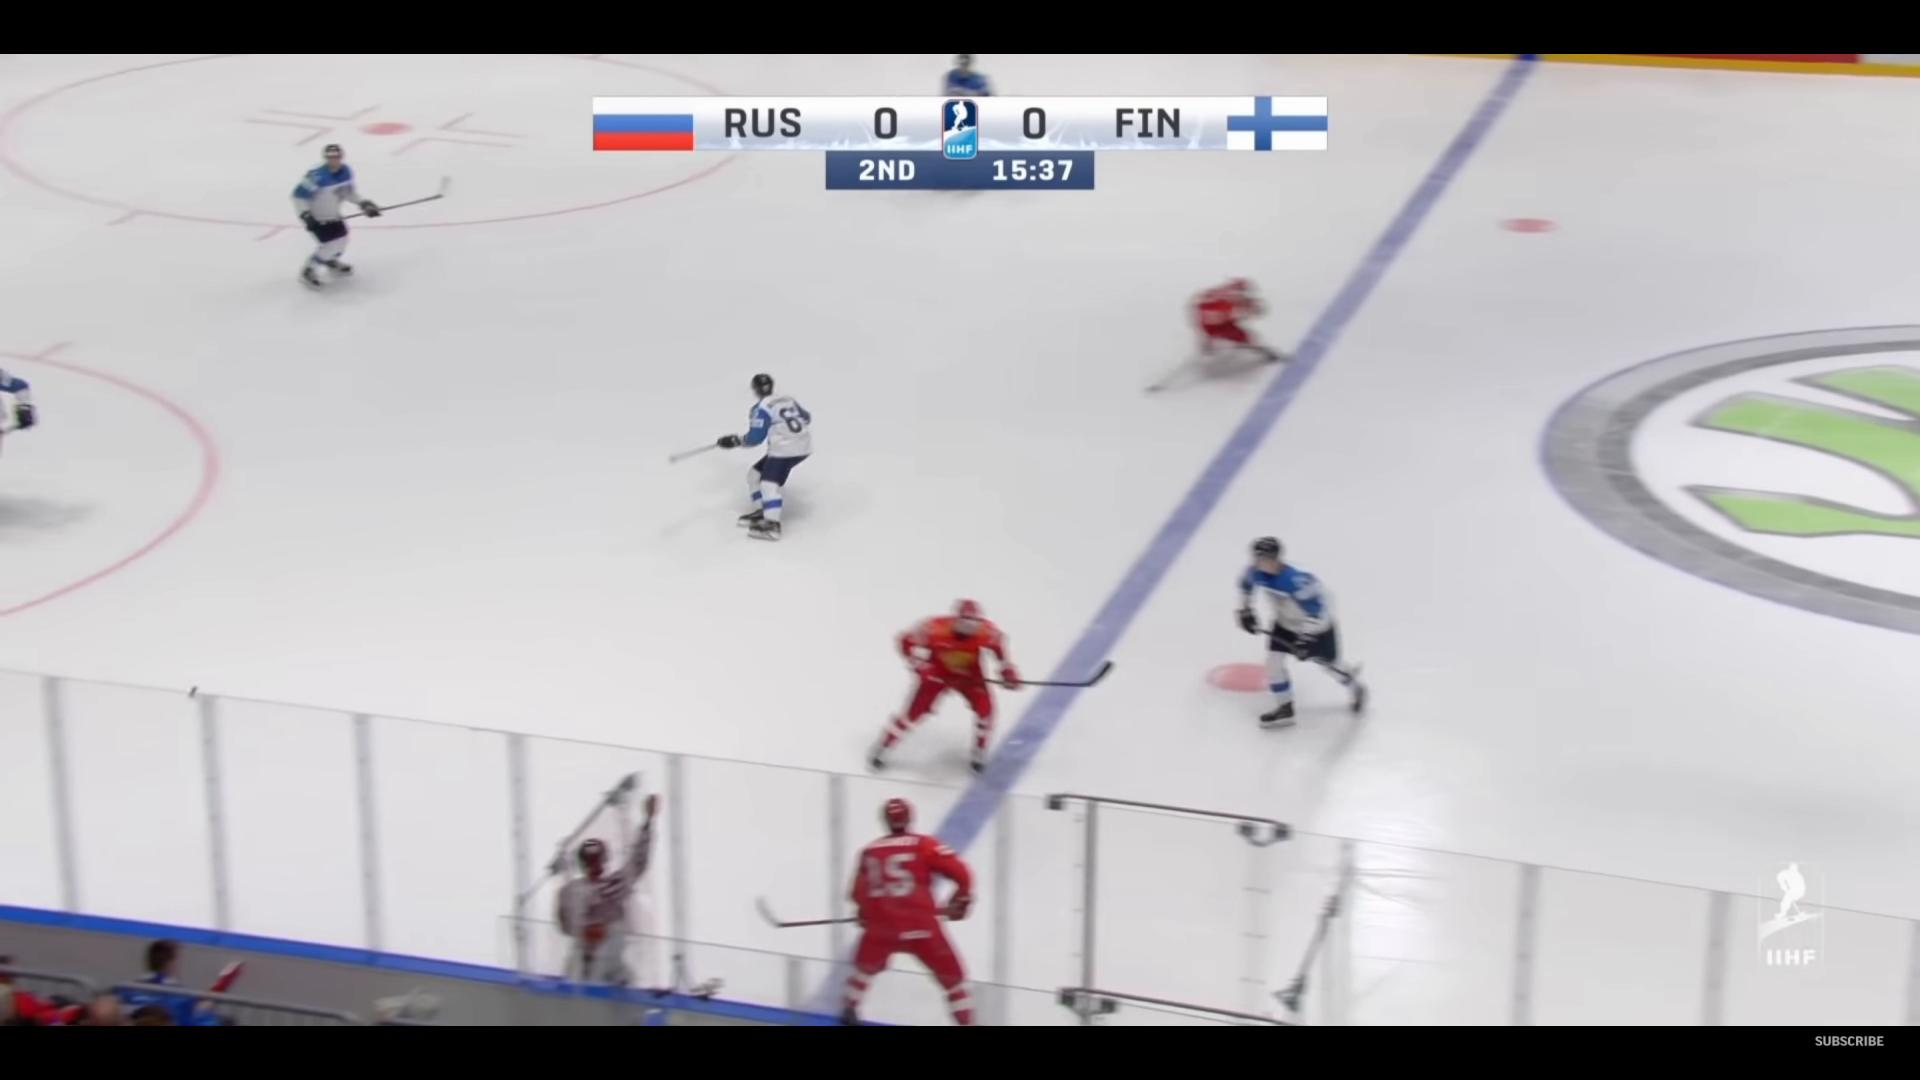puck: (189, 686, 196, 696)
